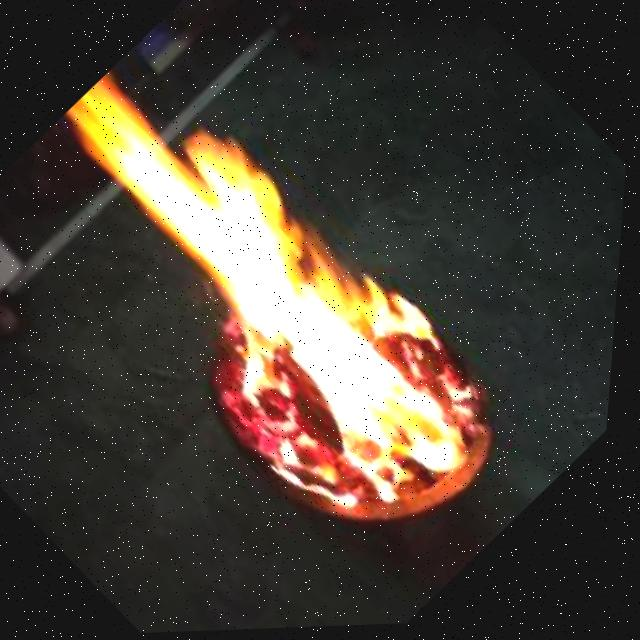Smoke: (0, 14, 556, 562)
